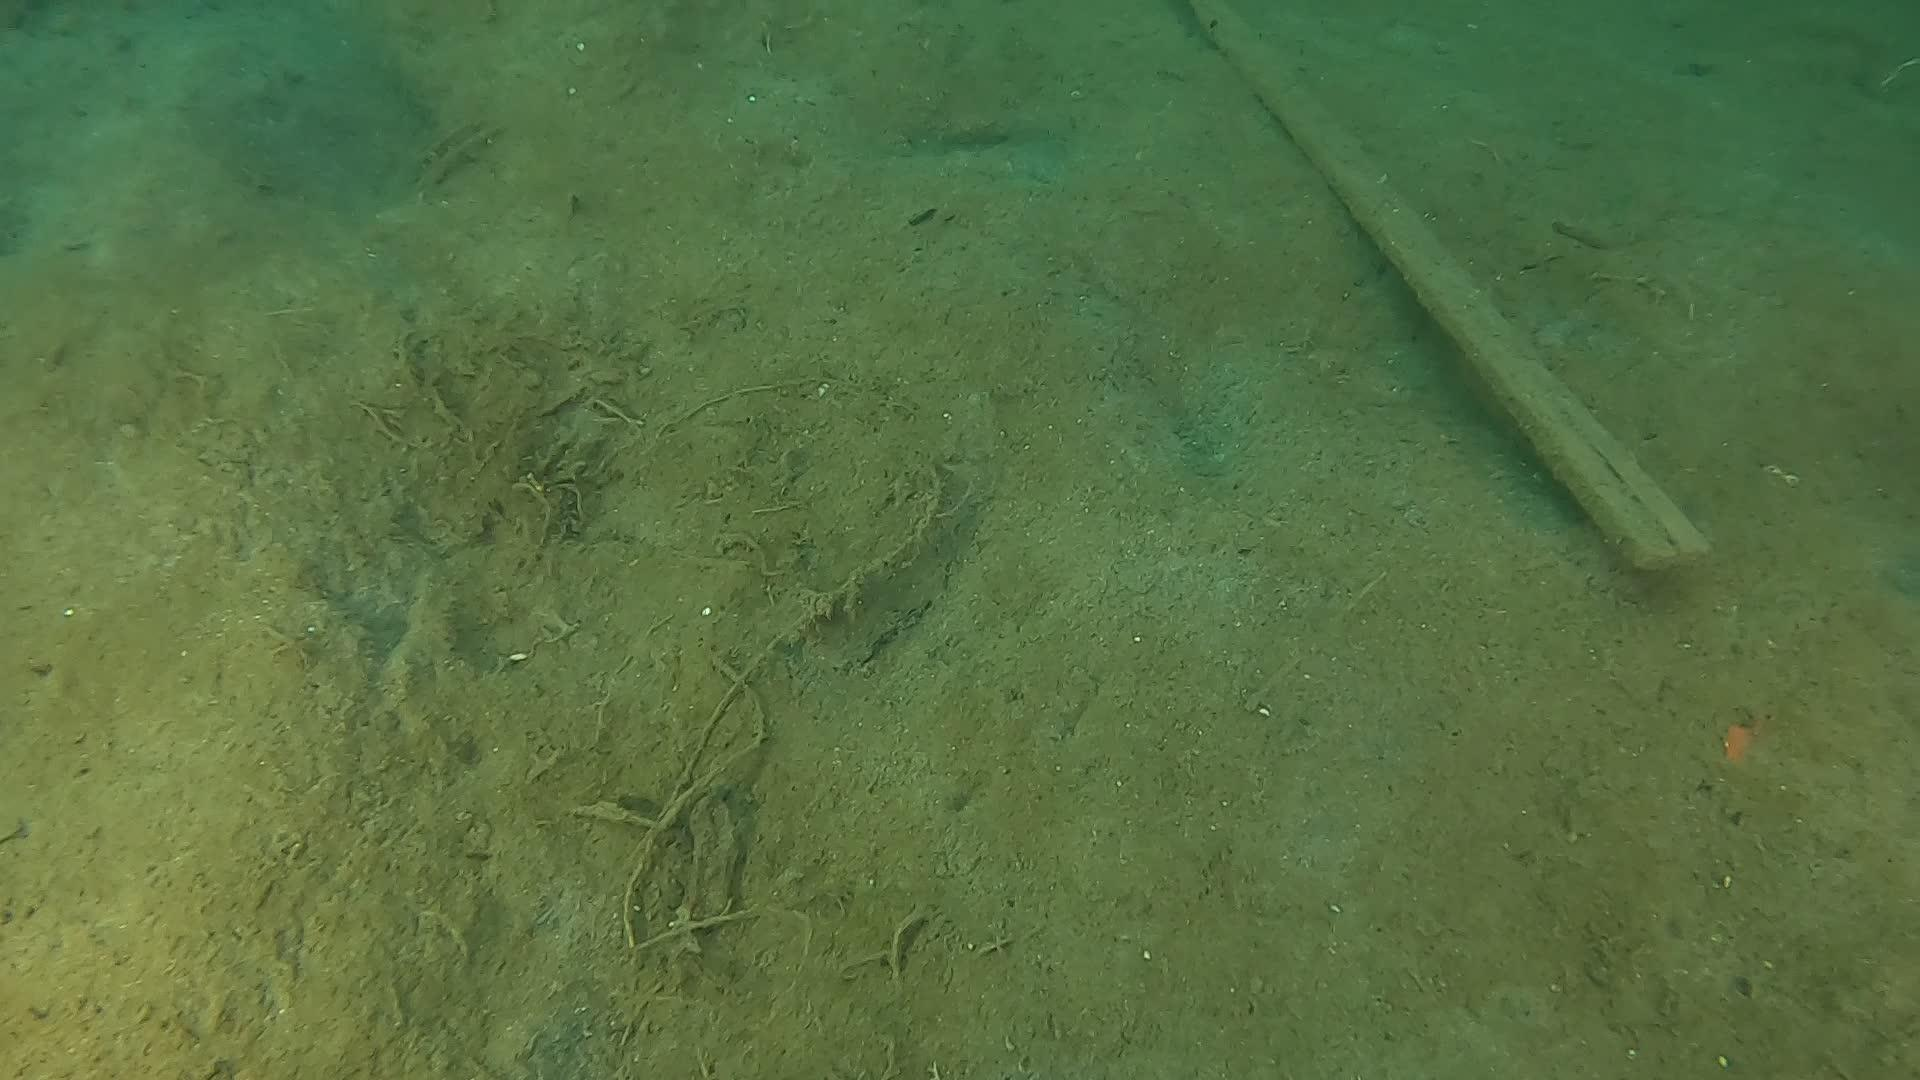wood: (1183, 0, 1716, 570)
